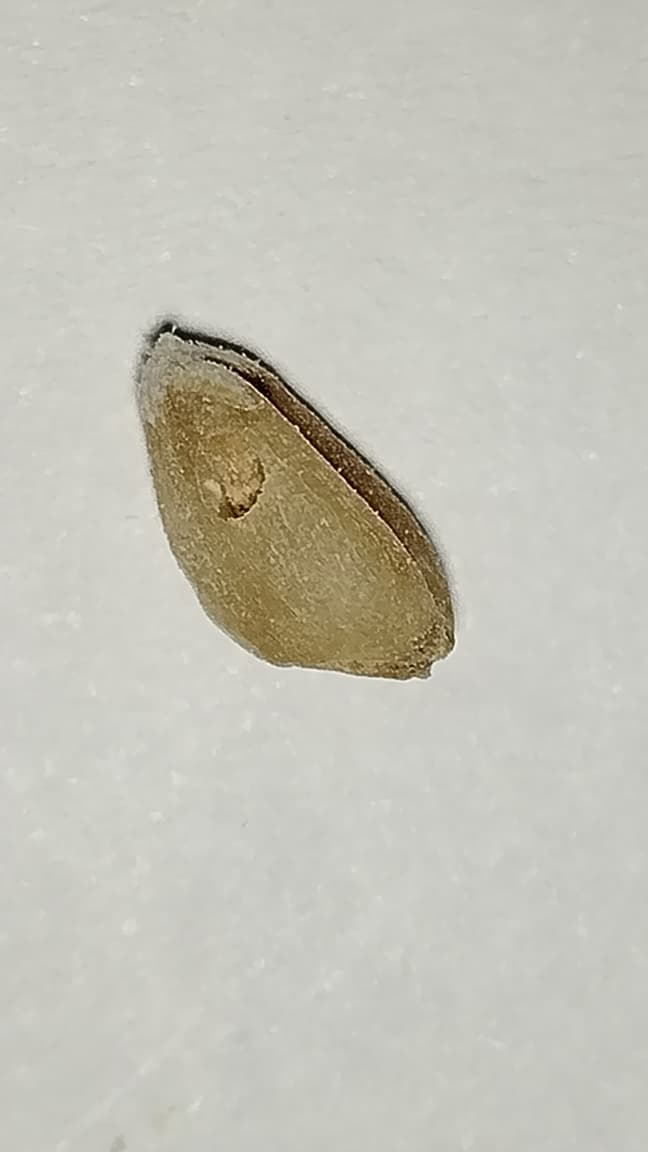damage: (137, 326, 453, 679)
insectdamage: (192, 429, 267, 532)
staindamage: (250, 364, 428, 576)
